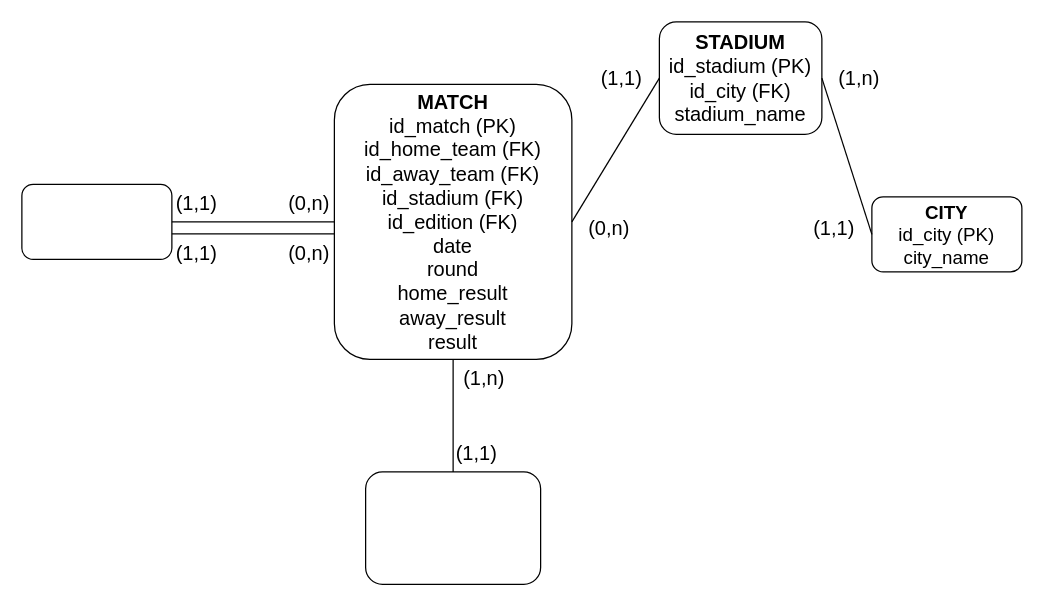
Some shapes in this 1044 by 606 pixel diagram are drawn without their labels. The centre of each missing label's shape, as x and y in pixels:
EDITION id_edition (PK) edition_name year: pixel 452 527
TEAM id_team (PK) team_name: pixel 96 221
